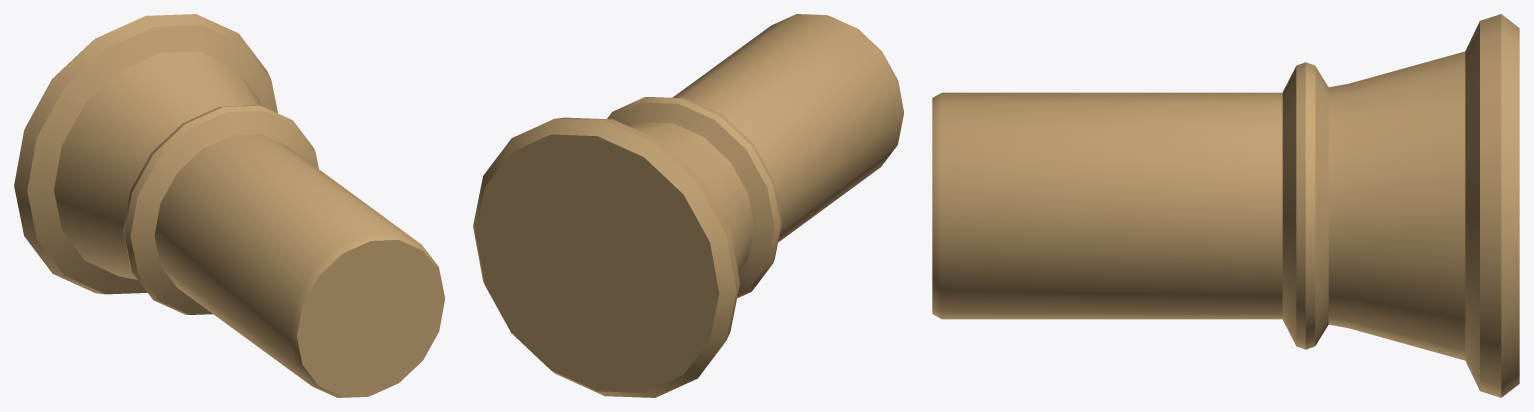
The model's file is BrokenRuin_pillarTop_01.fbx.
The picture shows the model from 3 angles, left to right: view 1: azimuth 30°, elevation 25°; view 2: azimuth 150°, elevation 25°; view 3: azimuth 270°, elevation 25°; orthographic projection. The views are drawn at different scales.
Visible parts, largest first — view 1: PillarTop_01; view 2: PillarTop_01; view 3: PillarTop_01.
Part boxes in pixels (<box>): PillarTop_01: <box>14,14,444,397</box>; PillarTop_01: <box>473,14,903,397</box>; PillarTop_01: <box>932,14,1519,397</box>.
Bounding box in the file's own units: 210 × 210 × 321.
